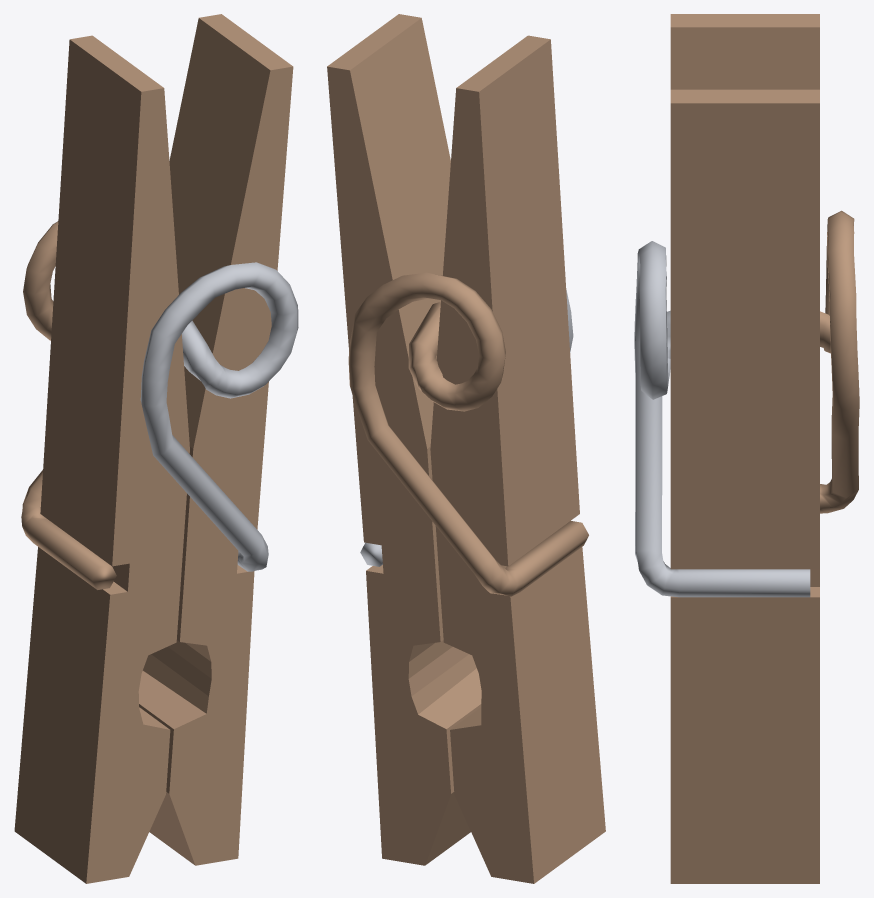
The model's file is clothespin.fbx.
3 renders of one model, left to right at view 1: azimuth 30°, elevation 25°; view 2: azimuth 150°, elevation 25°; view 3: azimuth 270°, elevation 25°, orthographic. The views are drawn at different scales.
Parts seen in each view (by area): view 1: Clothespin1, Clothespin2, Wire1, Wire2; view 2: Clothespin1, Clothespin2, Wire2, Wire1; view 3: Clothespin2, Wire1, Clothespin1, Wire2.
Part boxes in pixels (x1,y1,x2,y2): Clothespin1: (14, 35, 189, 883); Clothespin2: (138, 14, 293, 865); Wire1: (140, 262, 298, 571); Wire2: (21, 221, 116, 589); Clothespin1: (430, 35, 605, 883); Clothespin2: (327, 14, 481, 865); Wire2: (348, 272, 588, 596); Wire1: (360, 290, 573, 566); Clothespin2: (670, 89, 819, 883); Wire1: (634, 241, 810, 597); Clothespin1: (670, 14, 819, 89); Wire2: (820, 210, 859, 513).
Size of the model in its own units: 0.0167 by 0.0607 by 0.0151.
